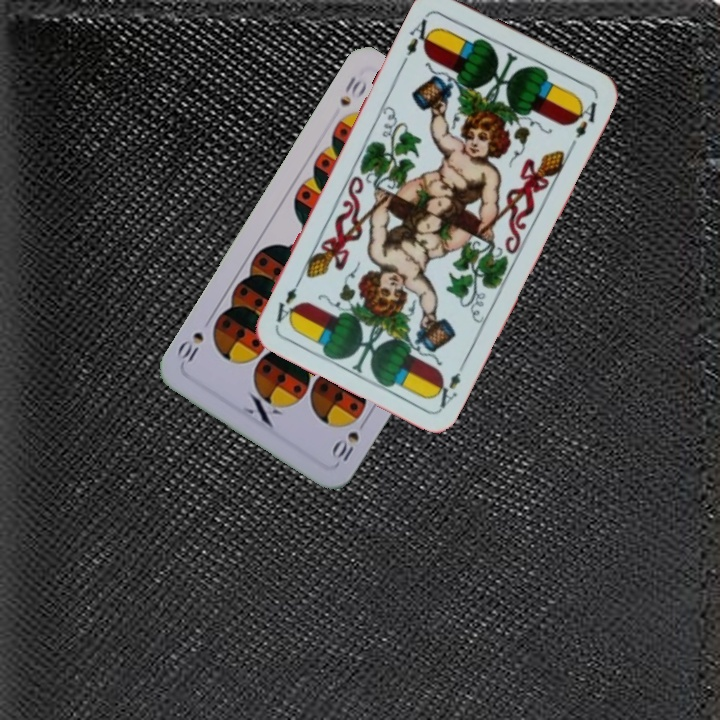EA: (428, 356, 469, 411), (399, 14, 438, 66)
S10: (327, 414, 370, 464), (335, 72, 370, 109)
